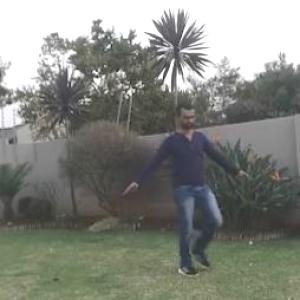land: (128, 111, 241, 255)
